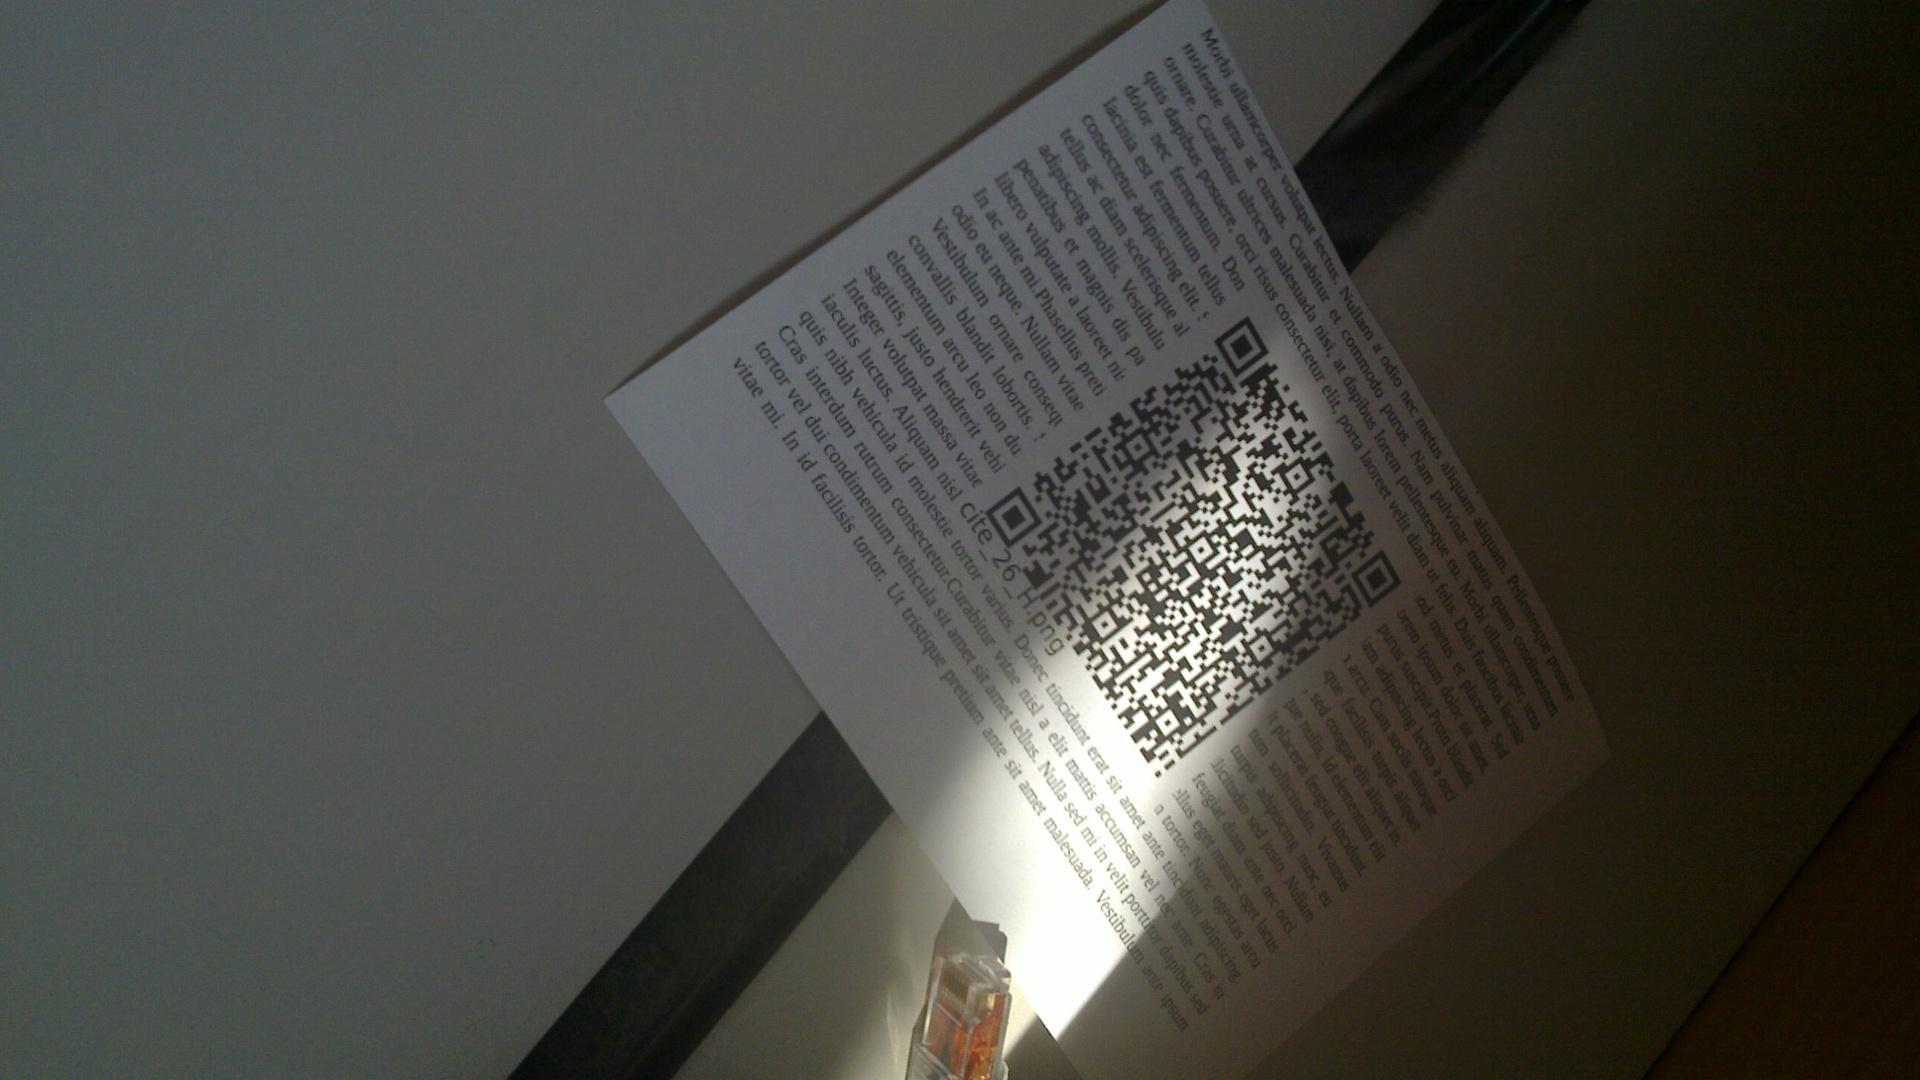Finder pattern: (981, 487, 1046, 549), (1213, 315, 1271, 375), (1356, 549, 1402, 611)
